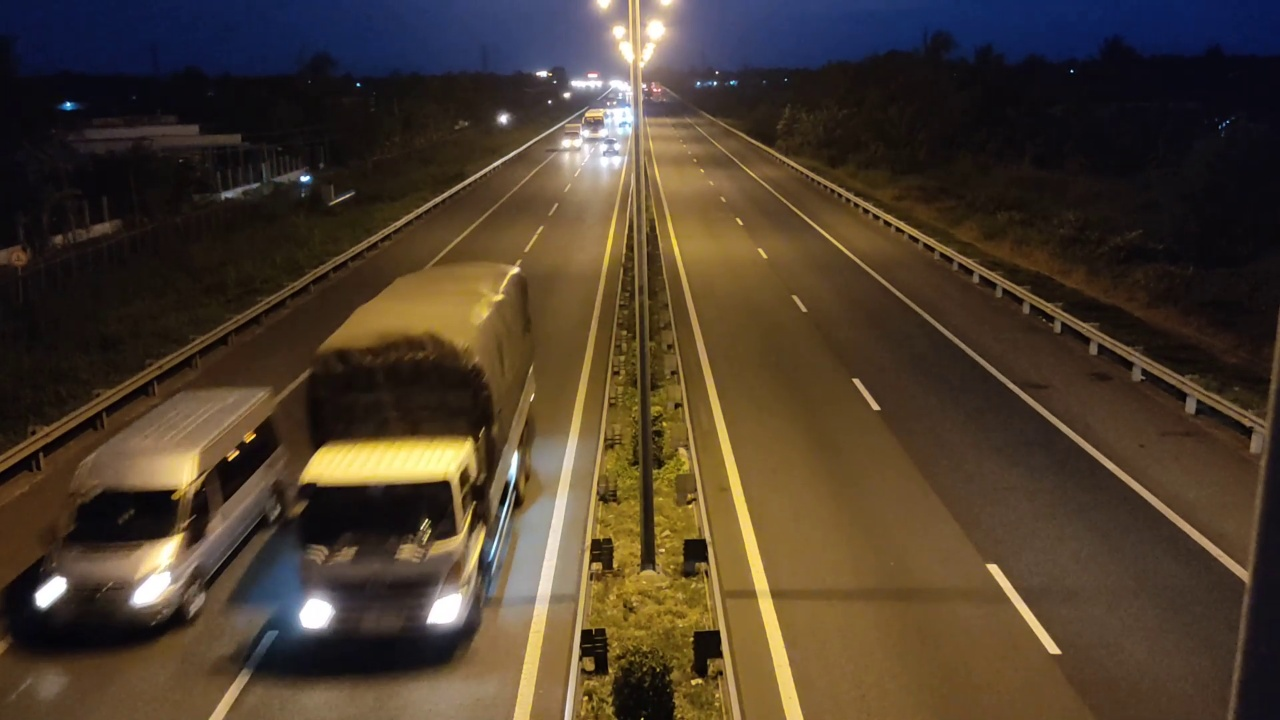car: (42, 378, 284, 649)
truck: (282, 257, 539, 663)
